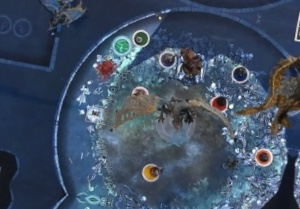blue: (228, 62, 253, 85)
green: (131, 25, 154, 51)
orange: (250, 143, 276, 171)
pink: (131, 82, 153, 104)
red: (208, 93, 232, 116)
violet: (156, 47, 180, 71)
yellow: (137, 159, 164, 185)
